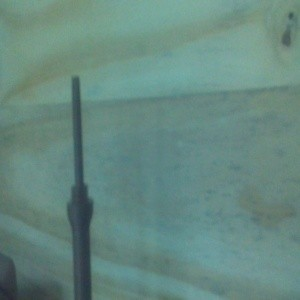obeng: (65, 74, 95, 300)
